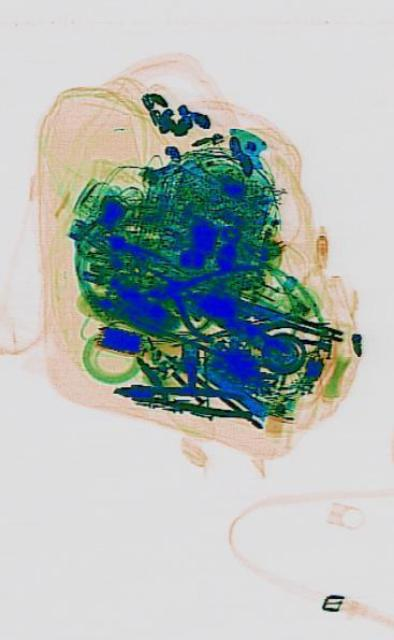Pliers: (143, 236, 257, 350), (110, 376, 250, 419)
